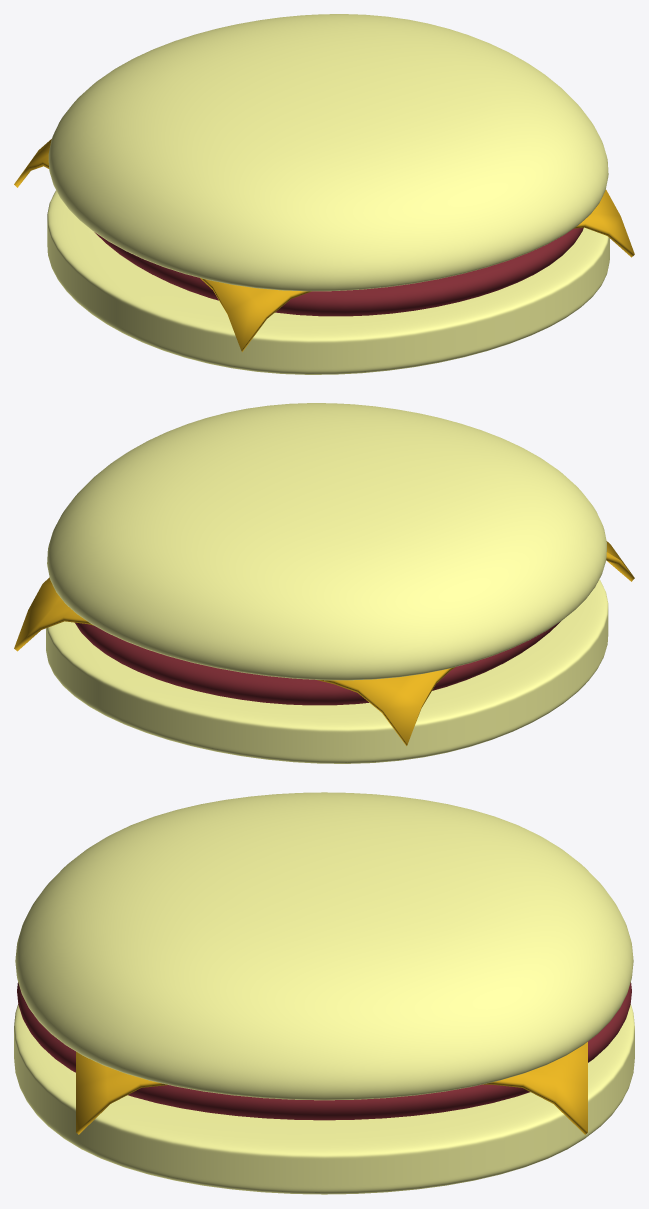
The model's file is burger.glb.
3 renders of one model, top to bottom at view 1: azimuth 30°, elevation 25°; view 2: azimuth 150°, elevation 25°; view 3: azimuth 270°, elevation 25°, orthographic. The views are drawn at different scales.
Parts seen in each view (by area): view 1: Cube.002, Cube, Cube.001, Plane; view 2: Cube.002, Cube, Cube.001, Plane; view 3: Cube.002, Cube, Cube.001, Plane.
Part boxes in pixels (x1,y1,x2,y2): Cube.002: (48,14,608,291); Cube: (47,190,609,374); Cube.001: (94,227,583,316); Plane: (14,139,634,351); Cube.002: (47,403,606,680); Cube: (46,579,608,763); Cube.001: (75,621,560,705); Plane: (14,541,634,745); Cube.002: (15,792,633,1100); Cube: (14,1004,634,1194); Cube.001: (17,982,631,1120); Plane: (76,1042,587,1134).
Bounding box in the file's own units: 8.62 × 3.26 × 8.62.
